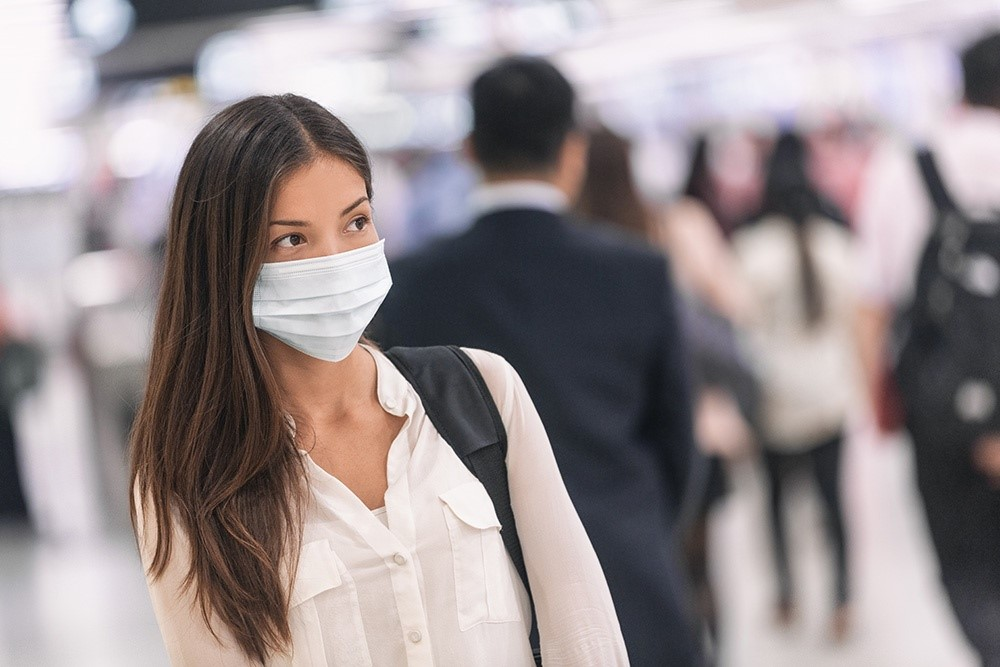face_with_mask: (187, 131, 410, 380)
